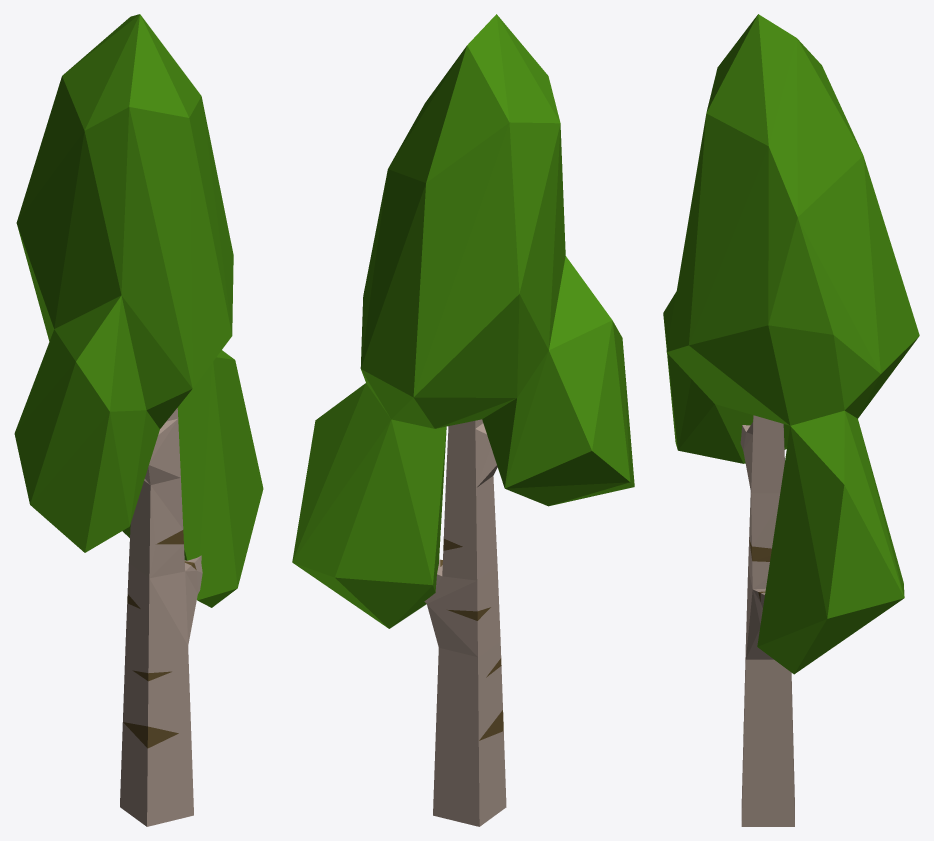
File: SilverBirch2.fbx
The picture shows the model from 3 angles, left to right: view 1: azimuth 30°, elevation 25°; view 2: azimuth 150°, elevation 25°; view 3: azimuth 270°, elevation 25°; orthographic projection.
Parts seen in each view (by area): view 1: SilverBirch2; view 2: SilverBirch2; view 3: SilverBirch2.
Part boxes in pixels (x1,y1,x2,y2): SilverBirch2: (14, 14, 263, 826); SilverBirch2: (292, 14, 634, 826); SilverBirch2: (663, 14, 919, 826).
Bounding box in the file's own units: 165 × 452 × 133.
